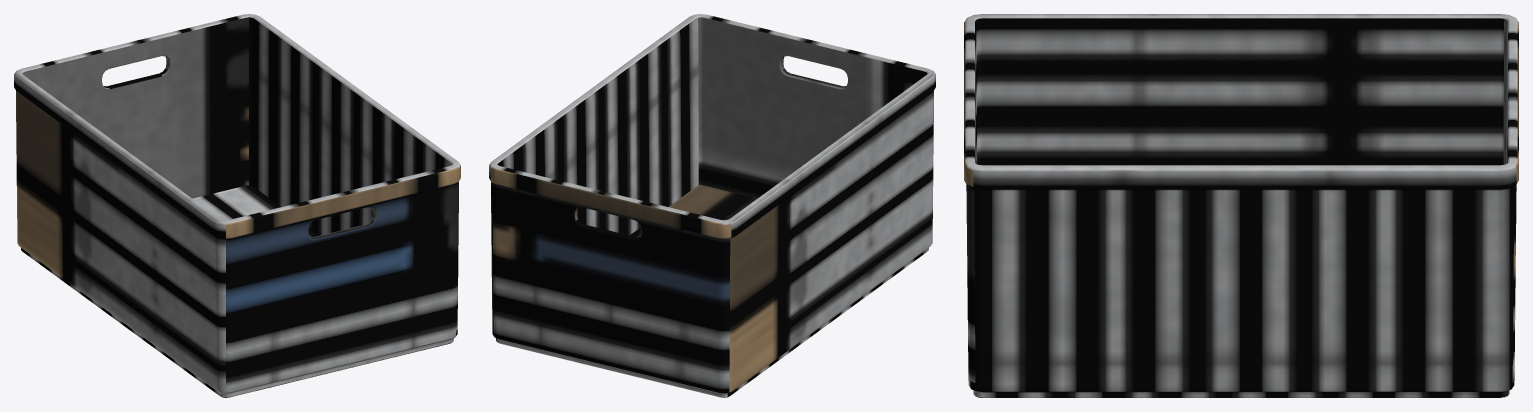
Rendered from SmallLoadCarrier_600x400x280.fbx.
The picture shows the model from 3 angles, left to right: view 1: azimuth 30°, elevation 25°; view 2: azimuth 150°, elevation 25°; view 3: azimuth 270°, elevation 25°; orthographic projection. The views are drawn at different scales.
Visible parts, largest first — view 1: SmallLoadCarrier_600x400x280_LOD0; view 2: SmallLoadCarrier_600x400x280_LOD0; view 3: SmallLoadCarrier_600x400x280_LOD0.
Part boxes in pixels (x1,y1,x2,y2): SmallLoadCarrier_600x400x280_LOD0: (14, 14, 460, 397); SmallLoadCarrier_600x400x280_LOD0: (489, 14, 935, 397); SmallLoadCarrier_600x400x280_LOD0: (964, 14, 1518, 397).
Size of what is drawn, in the model's own units: 0.404 by 0.28 by 0.604.
